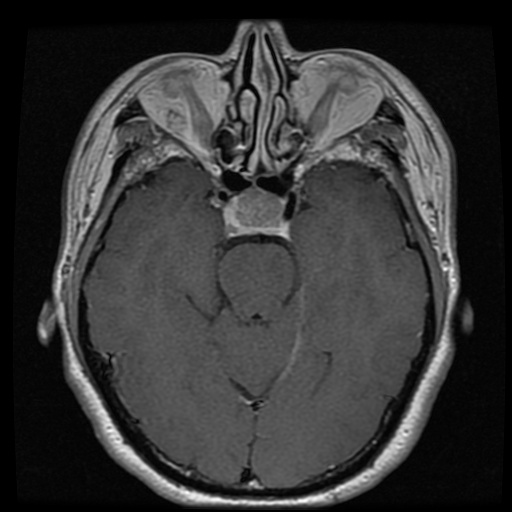pituitary: (226, 187, 285, 232)
